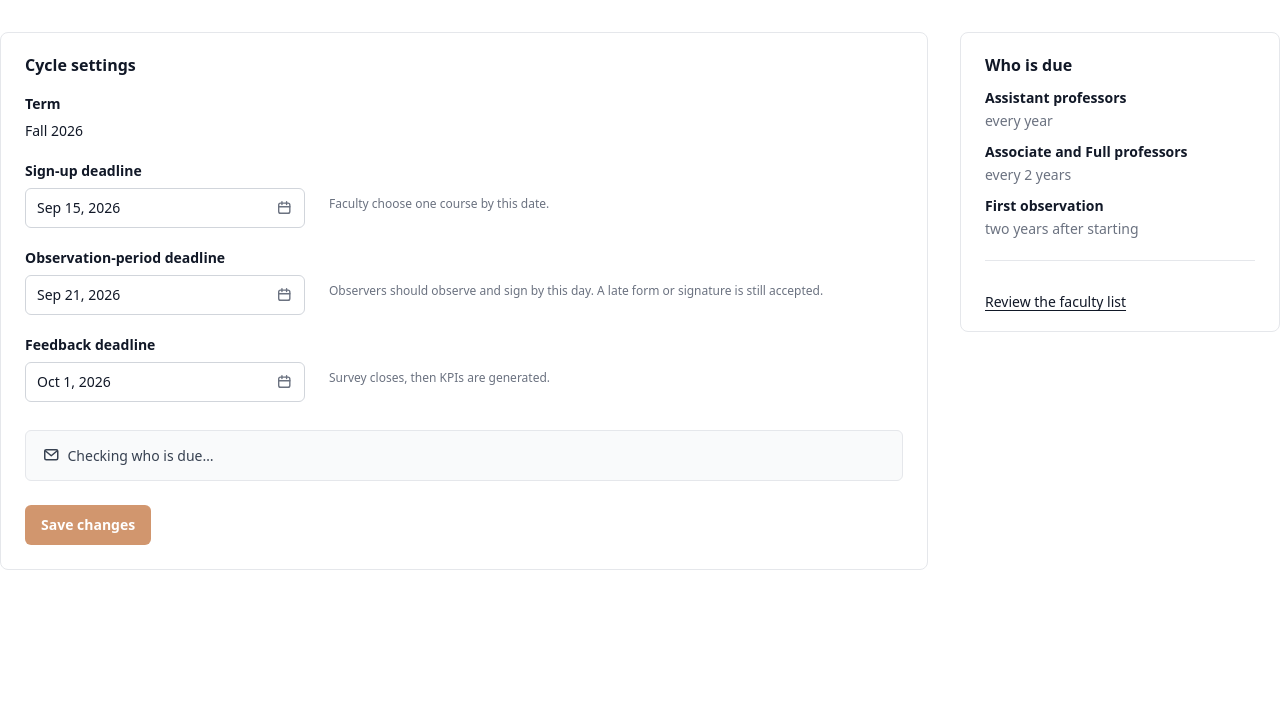
Cycle page: an open cycle › prefills the deadlines, shows the term as text, makes no term-list or due-professors request, and saves only the changed deadline
This screenshot has width=1280, height=720.
expect the date field labelled "Sign-up deadline" holds "2026-09-15": met, box [25, 188, 305, 228]
expect the date field labelled "Feedback deadline" holds "2026-10-01": met, box [25, 362, 305, 402]
Type "2026-09-25" into the date field labelled "Observation-period deadline" at (165, 295), box [25, 275, 305, 315]
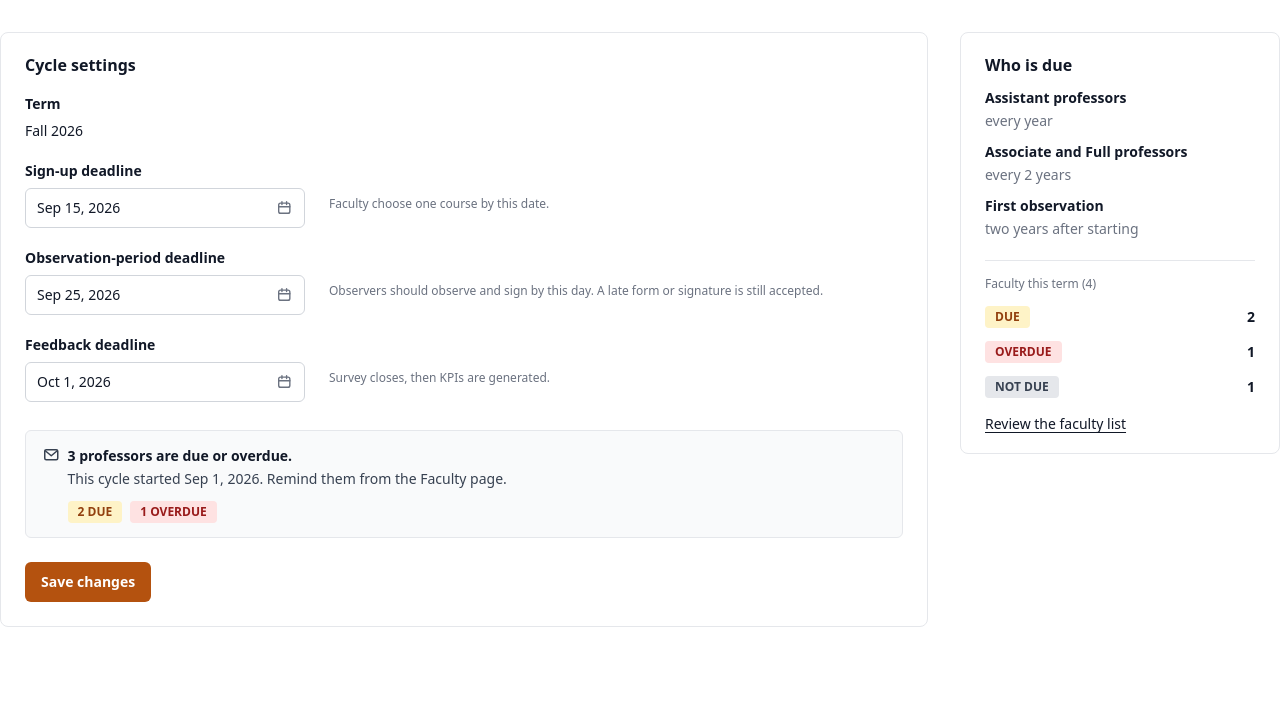
Click the button "Save changes" at (88, 582), box [25, 562, 151, 602]
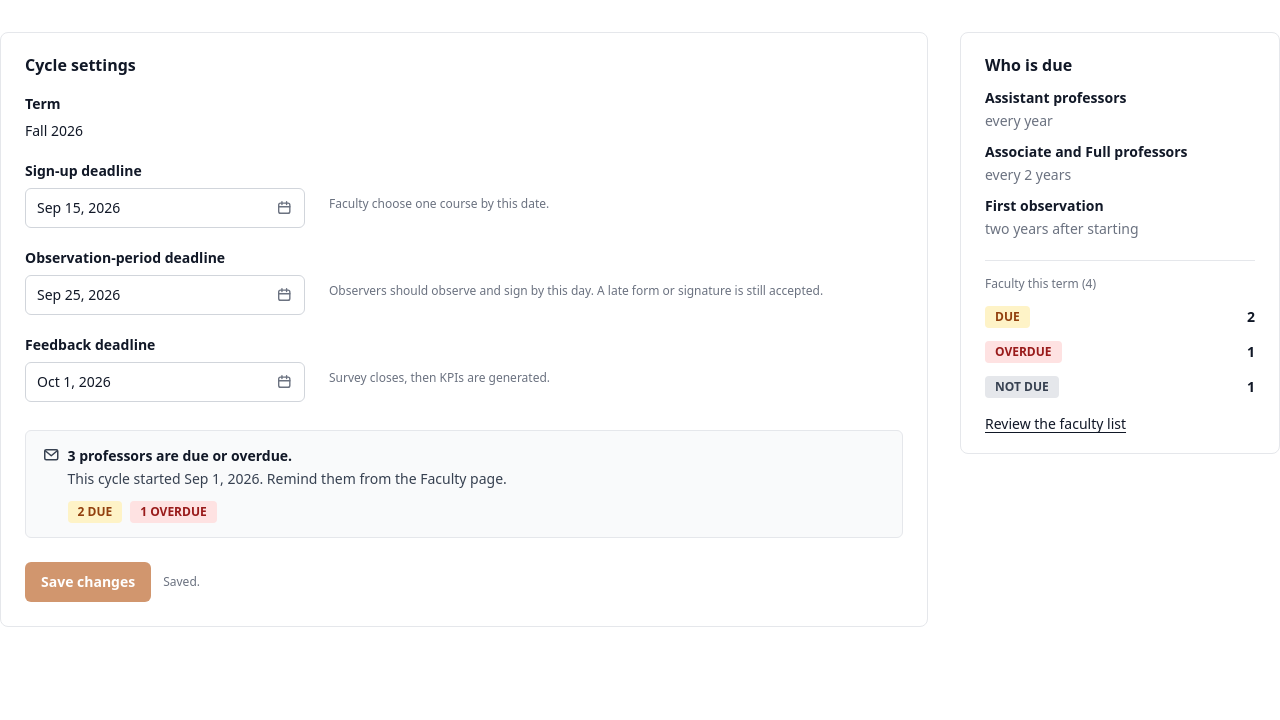
expect the text "3 professors are due or overdue." is shown: met, box [68, 446, 292, 465]
expect the text "Saved." is shown: met, box [163, 574, 200, 590]
